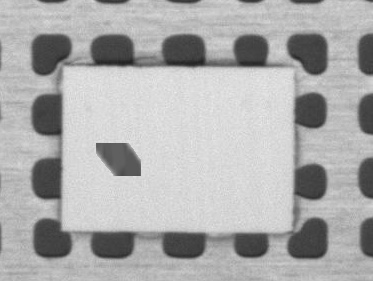DIE_INK: (127, 108, 187, 133)
